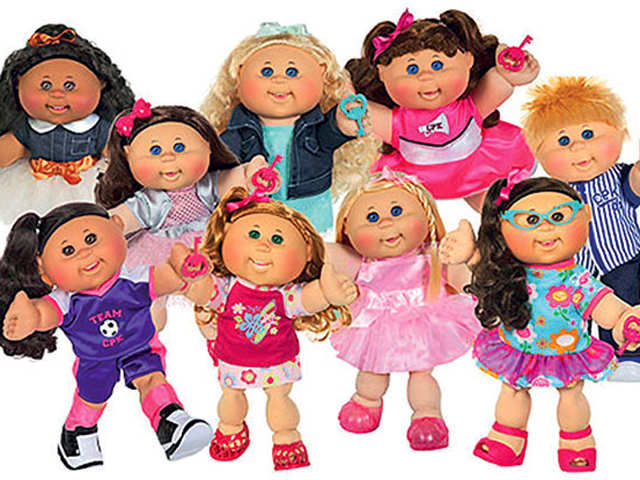toy: (5, 27, 148, 179)
